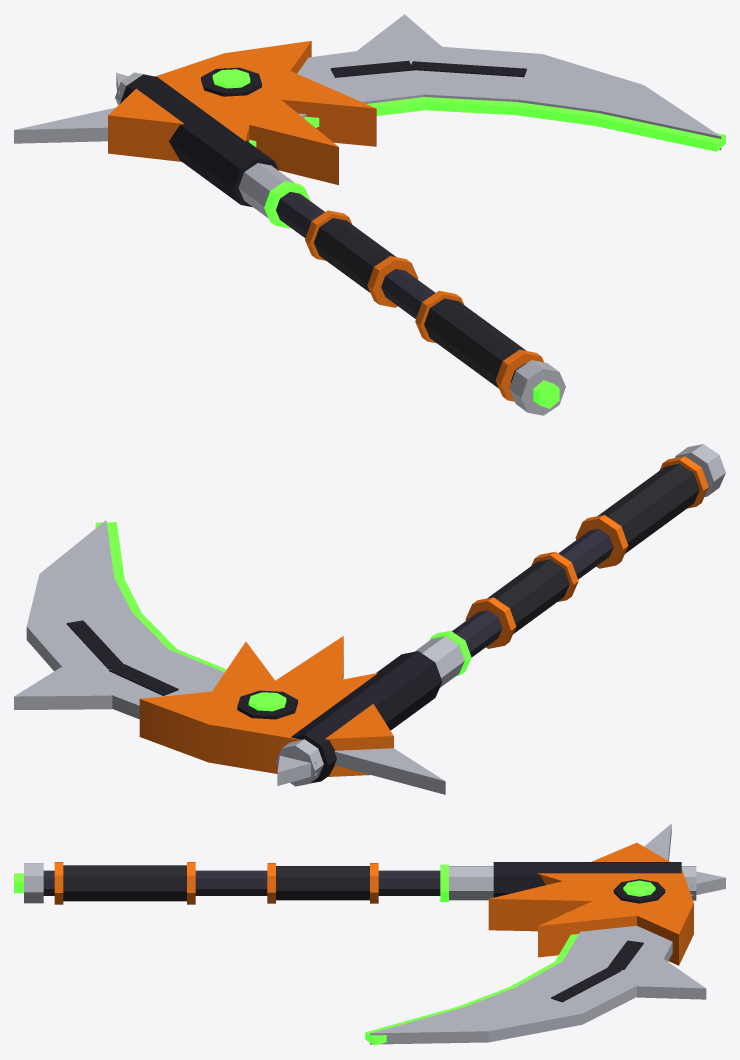
File: Scythe.glb
The picture shows the model from 3 angles, top to bottom: view 1: azimuth 30°, elevation 25°; view 2: azimuth 150°, elevation 25°; view 3: azimuth 270°, elevation 25°; orthographic projection. The views are drawn at different scales.
Parts seen in each view (by area): view 1: Bracket, Socket, Blade2, Blade1, Blade3, GripMain, BackPlate, GripFront, Shaft, BladeTip, BackSpike, Edge4 (+14 smaller); view 2: Bracket, Socket, Blade2, GripMain, Blade1, Blade3, GripFront, Shaft, SpineBarb, BackSpike, BackPlate, BladeTip (+13 smaller); view 3: Bracket, GripMain, Shaft, Blade3, Blade2, Blade1, GripFront, Socket, BladeTip, SpineBarb, Ferrule, ButtCap (+10 smaller).
Boxes of the visible parts, <box> form: Bracket: <box>155,40,376,185</box>; Socket: <box>120,74,278,207</box>; Blade2: <box>408,44,541,101</box>; Blade1: <box>297,44,423,103</box>; Blade3: <box>518,54,643,112</box>; GripMain: <box>424,298,526,388</box>; BackPlate: <box>108,88,184,161</box>; GripFront: <box>314,218,395,292</box>; Shaft: <box>276,192,525,383</box>; BladeTip: <box>599,85,721,149</box>; BackSpike: <box>14,107,115,143</box>; Edge4: <box>595,113,725,151</box>; Bracket: <box>139,636,377,773</box>; Socket: <box>291,651,442,783</box>; Blade2: <box>26,612,167,680</box>; GripMain: <box>597,464,699,553</box>; Blade1: <box>74,649,224,719</box>; Blade3: <box>27,574,131,626</box>; GripFront: <box>487,559,569,633</box>; Shaft: <box>452,529,613,657</box>; SpineBarb: <box>14,667,112,709</box>; BackSpike: <box>334,748,445,794</box>; BackPlate: <box>325,704,393,776</box>; BladeTip: <box>40,520,113,577</box>; Bracket: <box>488,869,693,965</box>; GripMain: <box>63,865,186,901</box>; Shaft: <box>43,870,440,895</box>; Blade3: <box>464,987,582,1042</box>; Blade2: <box>516,961,647,1024</box>; Blade1: <box>563,928,672,975</box>; GripFront: <box>276,866,369,900</box>; Socket: <box>493,862,681,897</box>; BladeTip: <box>370,1007,488,1044</box>; SpineBarb: <box>637,959,706,999</box>; Ferrule: <box>449,866,493,900</box>; ButtCap: <box>24,863,43,903</box>.
Size of the model in its own units: 2.04 by 0.188 by 2.88.
